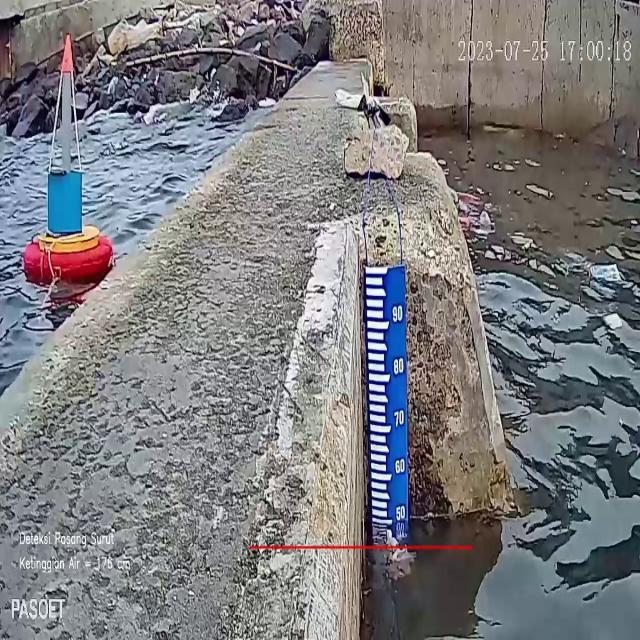50: (395, 505, 406, 520)
60: (394, 456, 405, 474)
70: (394, 408, 404, 427)
80: (394, 358, 404, 376)
90: (392, 305, 403, 324)
staff: (364, 265, 408, 523)
